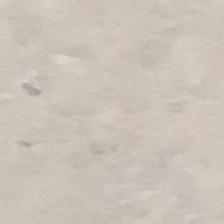Non_Crack: (58, 19, 215, 215)
